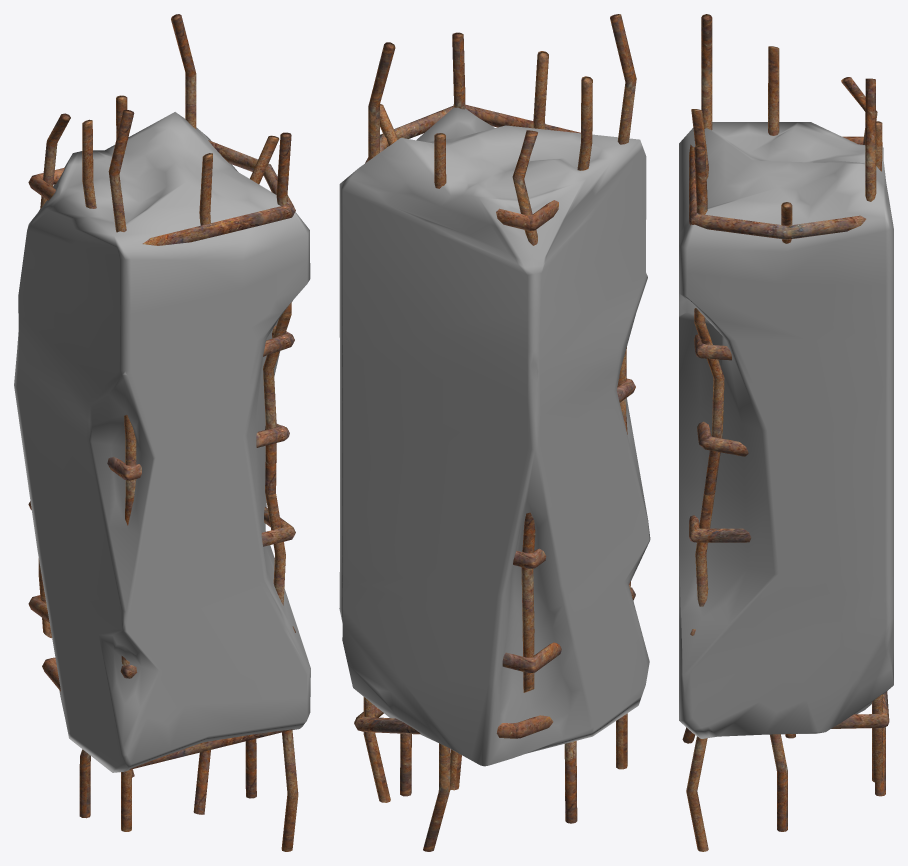
File: Pillar_A.fbx
3 renders of one model, left to right at view 1: azimuth 30°, elevation 25°; view 2: azimuth 150°, elevation 25°; view 3: azimuth 270°, elevation 25°, orthographic. The views are drawn at different scales.
Visible parts, largest first — view 1: polySurface11; view 2: polySurface11; view 3: polySurface11.
Boxes of the visible parts, box(x1,y1,x2,y2) form: polySurface11: box(14, 14, 310, 851); polySurface11: box(339, 14, 650, 851); polySurface11: box(679, 14, 893, 851).
Bounding box in the file's own units: 4.48 × 15.62 × 4.
